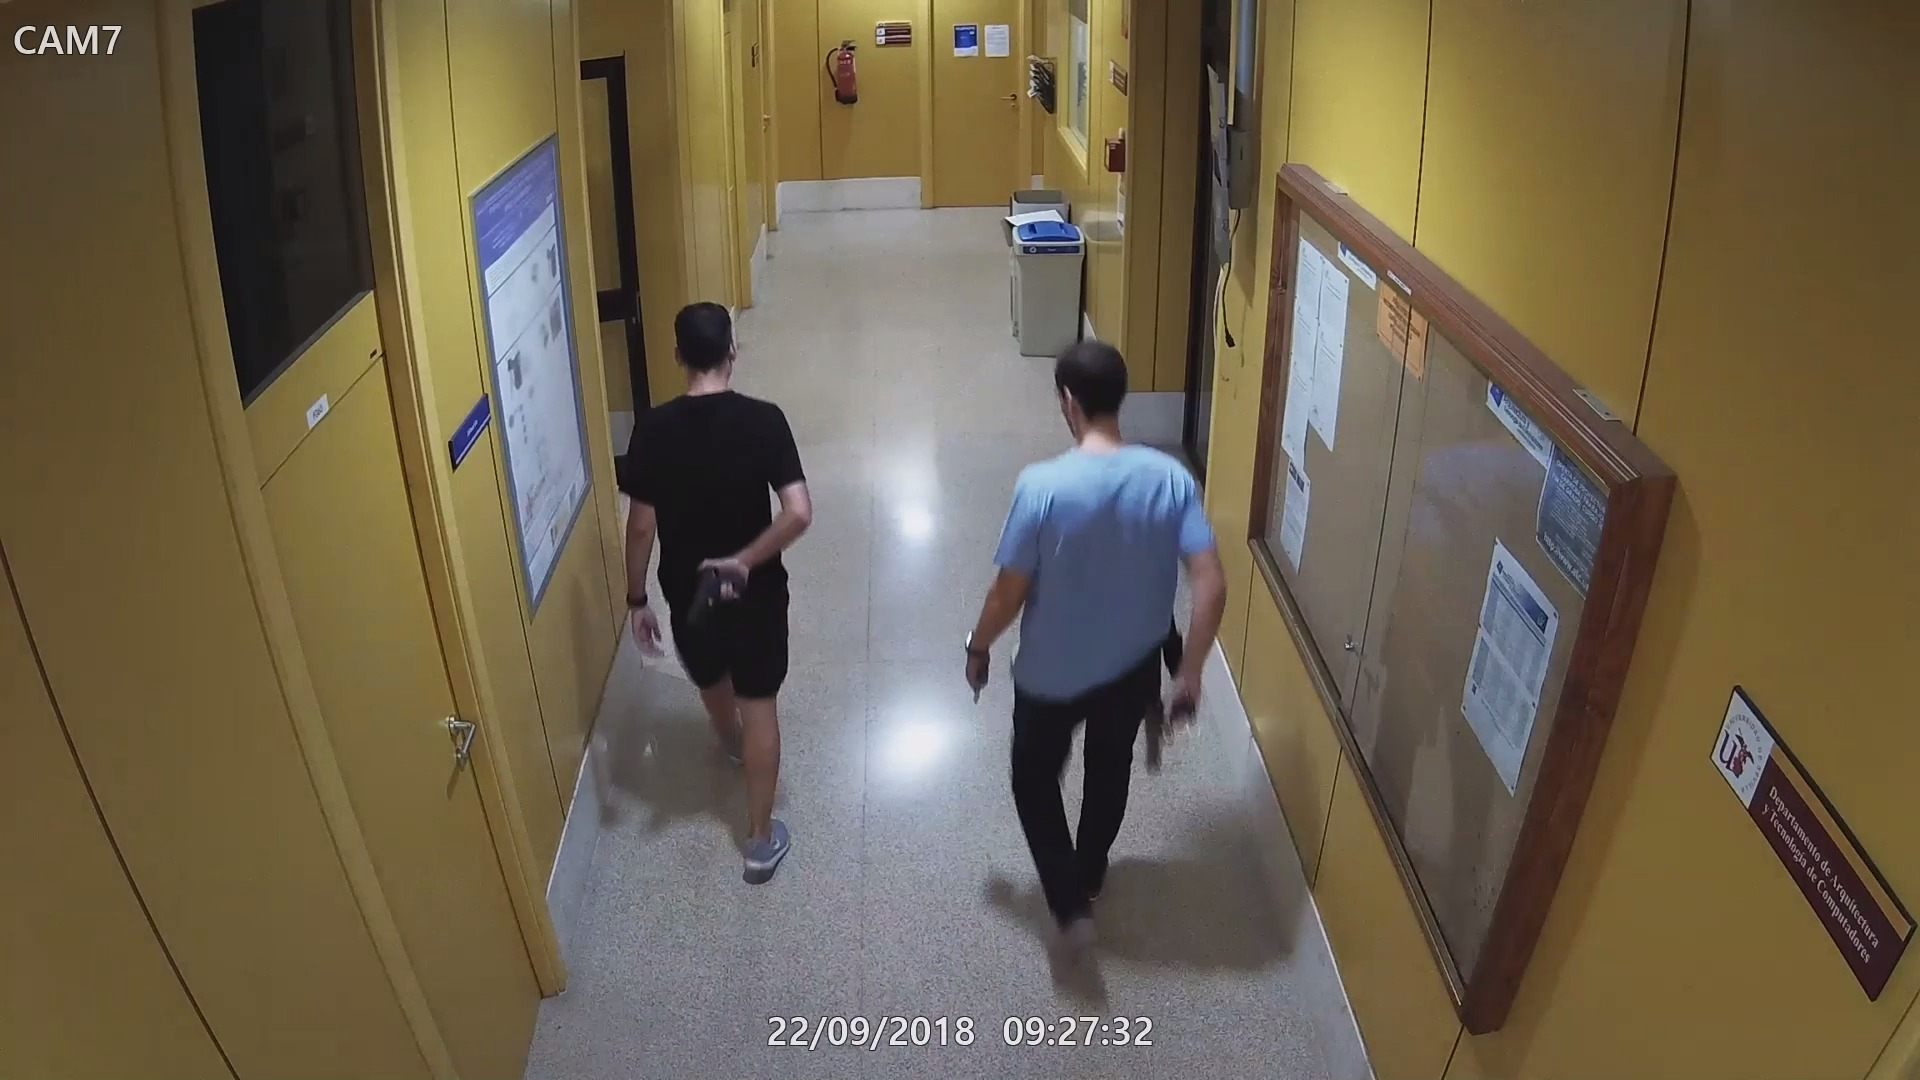Handgun: (1139, 683, 1200, 778), (679, 567, 749, 626)
Knife: (967, 650, 993, 709)
